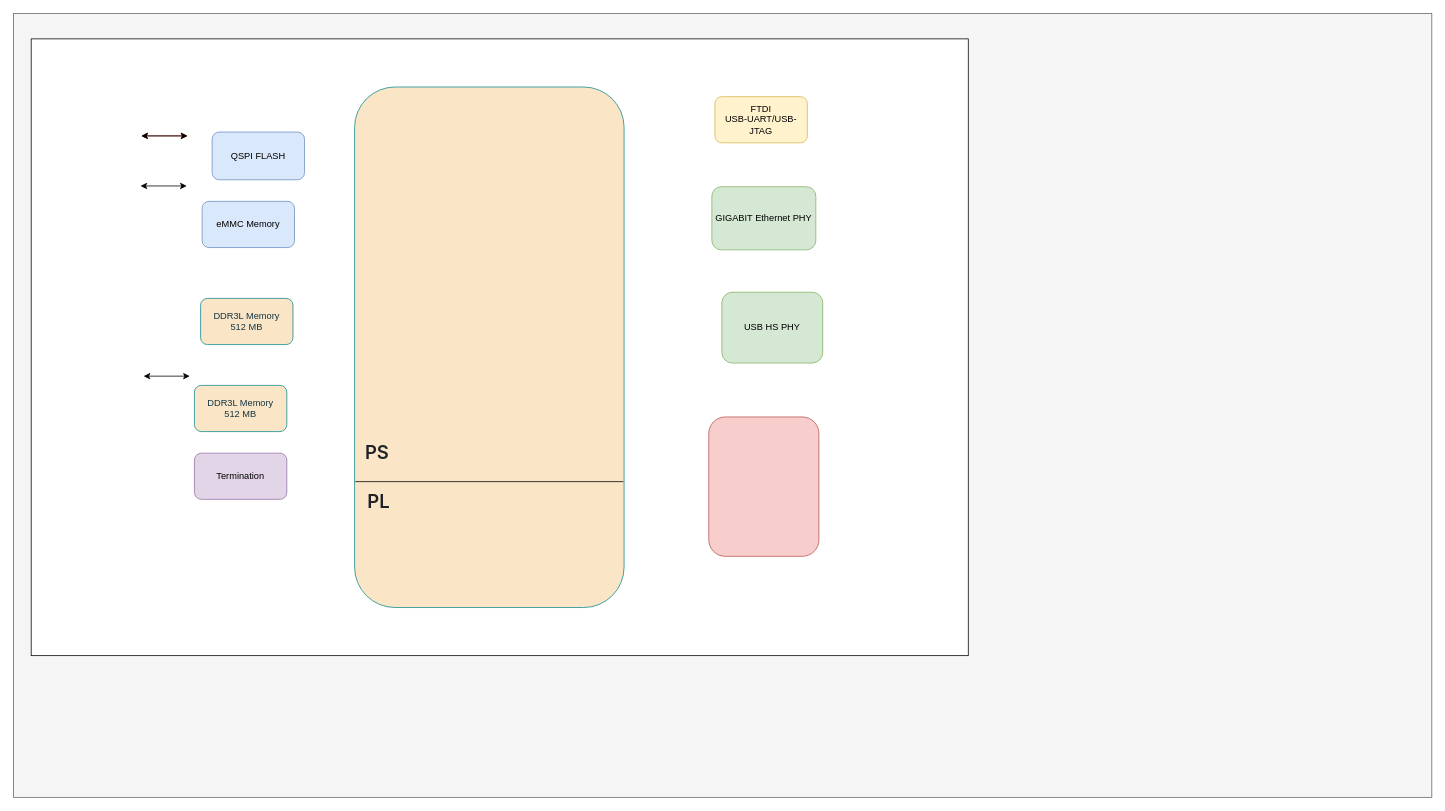
Some shapes in this 1445 by 811 pixel diagram are drawn without their labels. Each missing label, with the box of its shape:
AMD/Xillinx: (354, 86, 624, 608)
DC/DC Converters: (708, 416, 819, 556)
IT-MA22: (447, 45, 540, 91)
